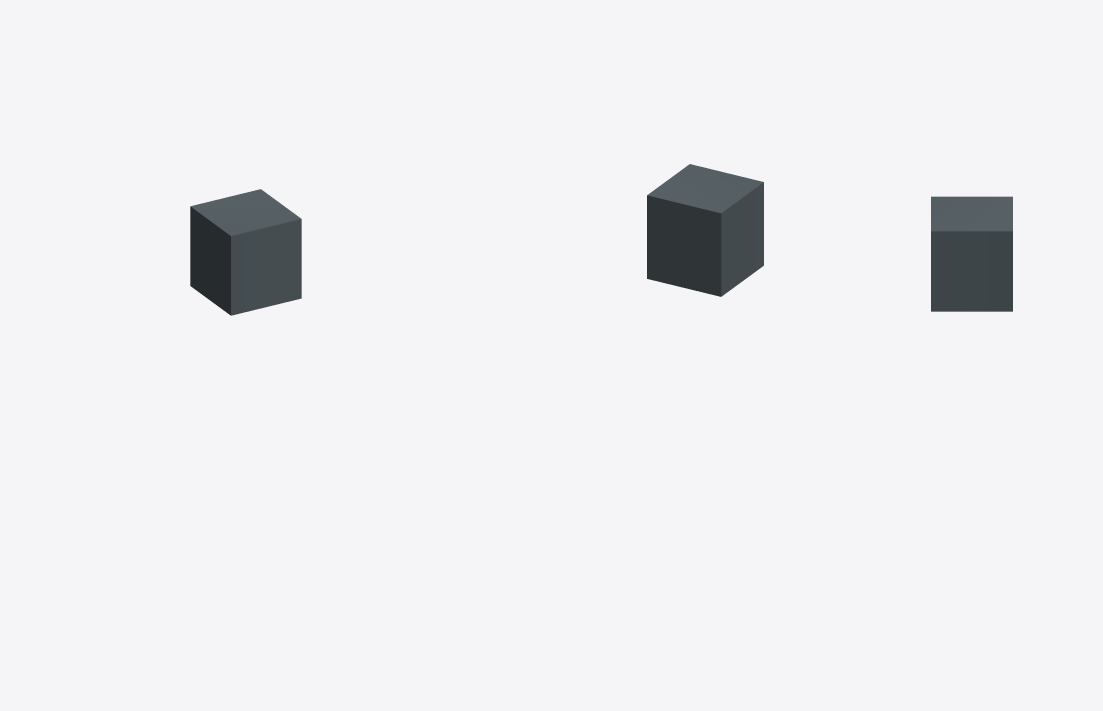
File: wooden_rake.obj
The picture shows the model from 3 angles, left to right: view 1: azimuth 30°, elevation 25°; view 2: azimuth 150°, elevation 25°; view 3: azimuth 270°, elevation 25°; orthographic projection. The views are drawn at different scales.
Parts seen in each view (by area): view 1: square_handle_and_continuous_rake_mount; view 2: square_handle_and_continuous_rake_mount; view 3: square_handle_and_continuous_rake_mount.
Part boxes in pixels (x1=…): square_handle_and_continuous_rake_mount: x1=190, y1=189, x2=301, y2=315; square_handle_and_continuous_rake_mount: x1=647, y1=164, x2=763, y2=296; square_handle_and_continuous_rake_mount: x1=931, y1=196, x2=1012, y2=311.
Bounding box in the file's own units: 0.4 × 0.6375 × 0.1562.
